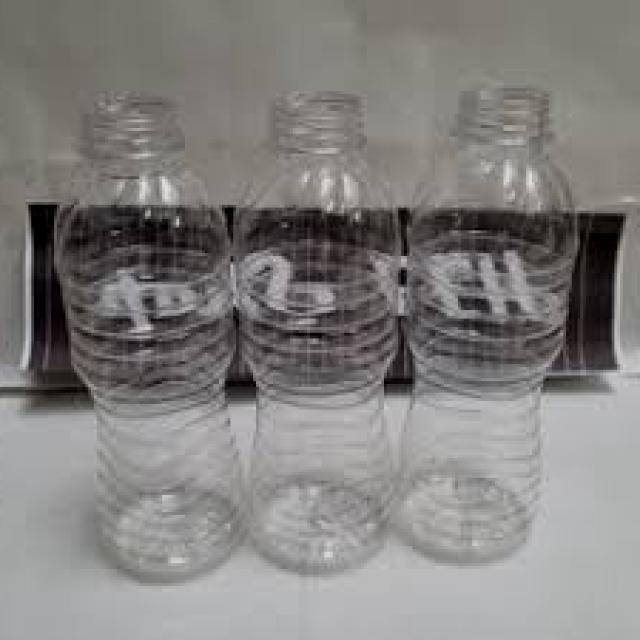bottle: (379, 62, 640, 562), (232, 74, 414, 577), (74, 85, 232, 588)
